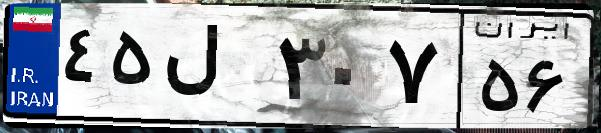0: (330, 28, 385, 110)
3: (270, 28, 330, 110)
4: (57, 26, 110, 100)
5: (475, 38, 525, 113), (110, 28, 158, 98)
6: (525, 38, 570, 115)
7: (385, 28, 445, 110)
ل: (158, 20, 270, 120)
